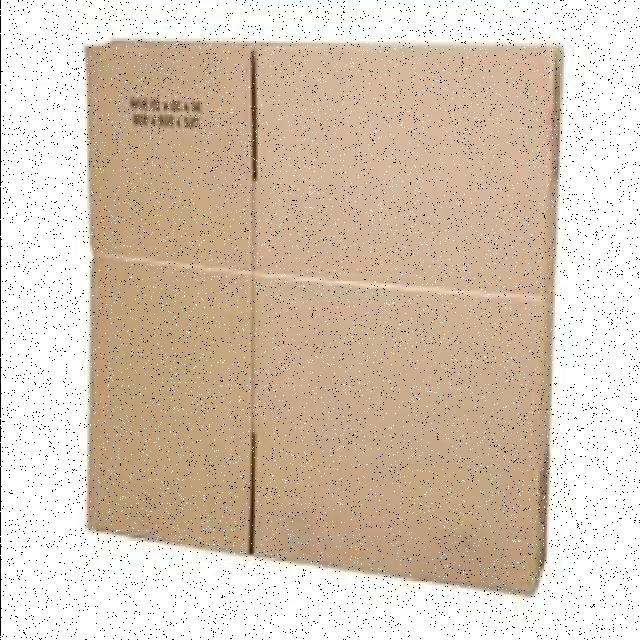normal: (248, 283, 557, 600)
